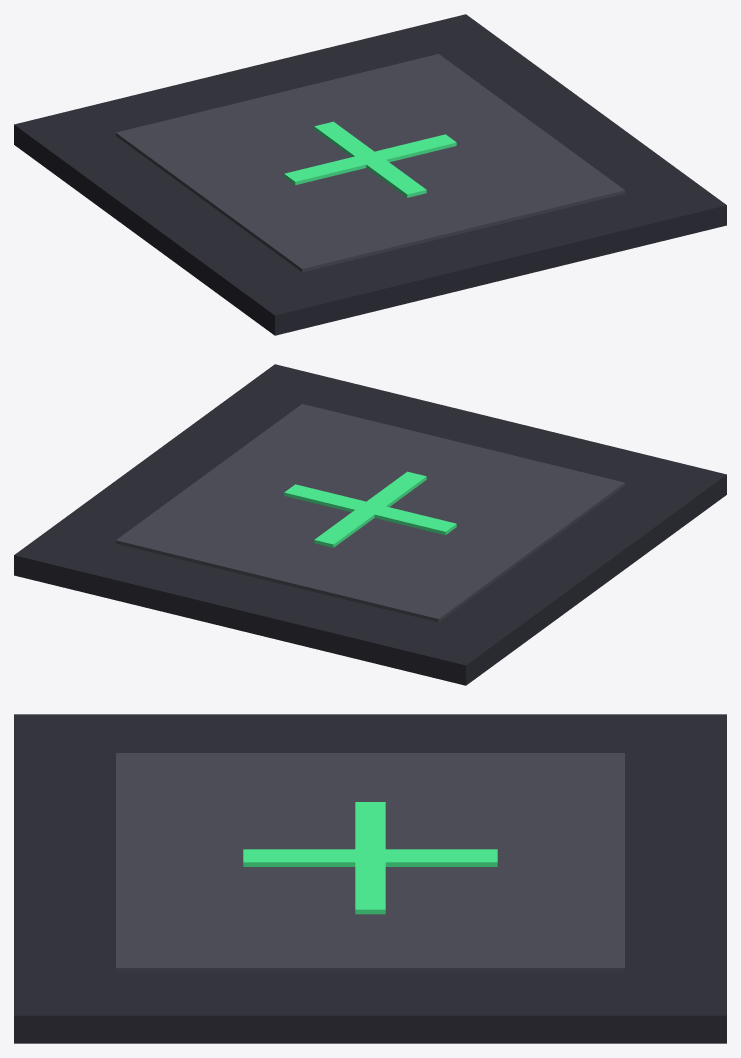
File: pressure_plate.fbx
3 renders of one model, top to bottom at view 1: azimuth 30°, elevation 25°; view 2: azimuth 150°, elevation 25°; view 3: azimuth 270°, elevation 25°, orthographic. The views are drawn at different scales.
Parts seen in each view (by area): view 1: pressure_plate; view 2: pressure_plate; view 3: pressure_plate.
Part boxes in pixels (x1,y1,x2,y2): pressure_plate: (14,14,726,335); pressure_plate: (14,364,726,685); pressure_plate: (14,714,726,1043).
Bounding box in the file's own units: 1.4 × 0.08 × 1.4.
